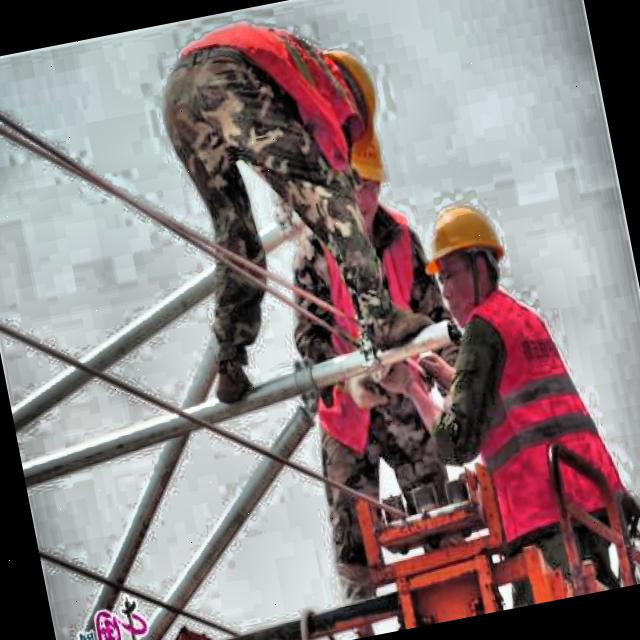helmet: (413, 185, 522, 328), (305, 46, 393, 153), (334, 112, 394, 221)
